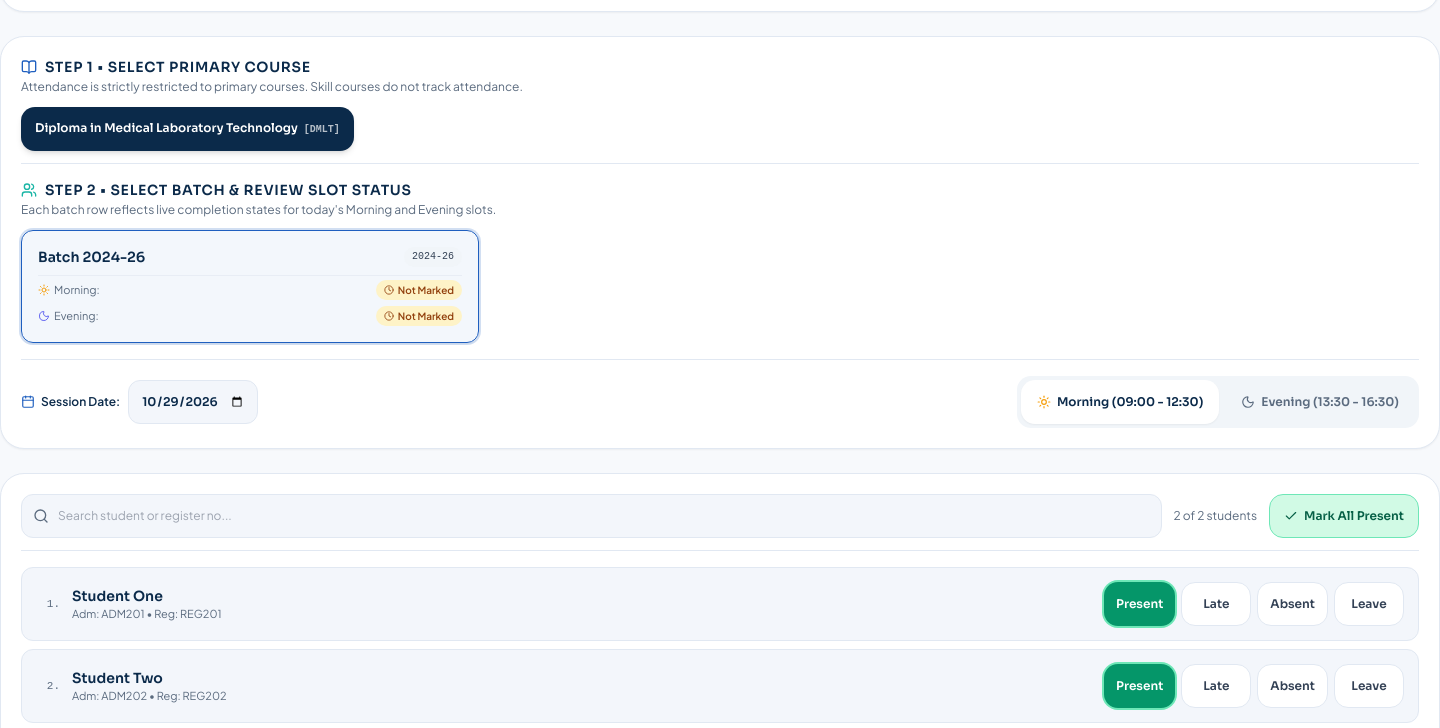
Test: Phase 8D - Change Request Automated Test Suite › 1. Concurrency Race-Safety on Attendance Submission › Teacher A succeeds; Teacher B gets ALREADY_MARKED with Teacher A details, keeping B entries visible on screen
Expected: the text "Student One" is shown, [72, 587, 163, 605]
Expected: the text "Student Two" is shown, [72, 669, 163, 687]
// Teacher B changes Student One to Absent
Click the button "Absent" in the row of "• Reg: REG201". click: (1293, 604)
box: [1257, 582, 1328, 626]
(page scrolled)
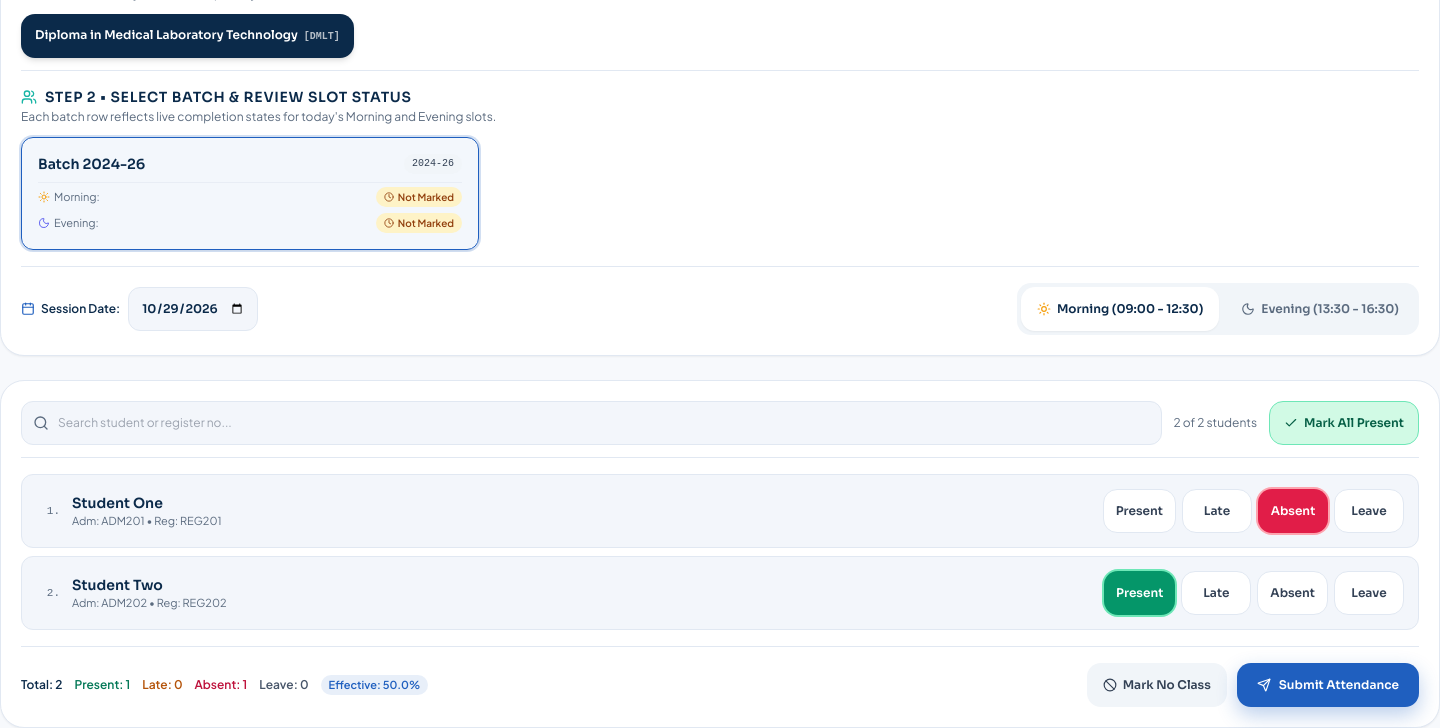
Expected: the text "Absent:" is shown, [194, 677, 240, 692]
// Teacher B clicks Submit Attendance
Click the button "Submit Attendance". click: (1328, 685)
box: [1237, 663, 1419, 707]
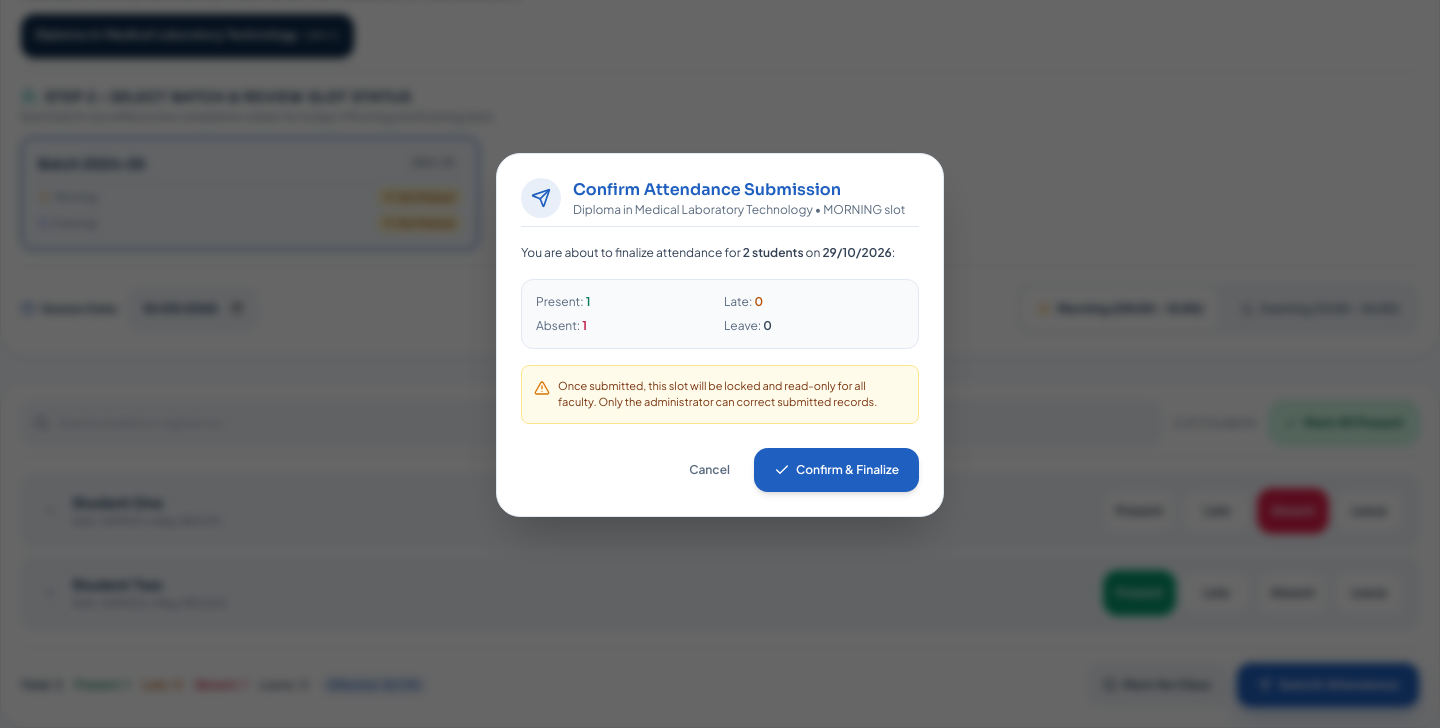
Now the heading "Confirm Attendance Submission" is shown, box [573, 179, 841, 200]
Click the button "Confirm & Finalize". click: (836, 470)
box: [754, 448, 919, 492]
(page scrolled)
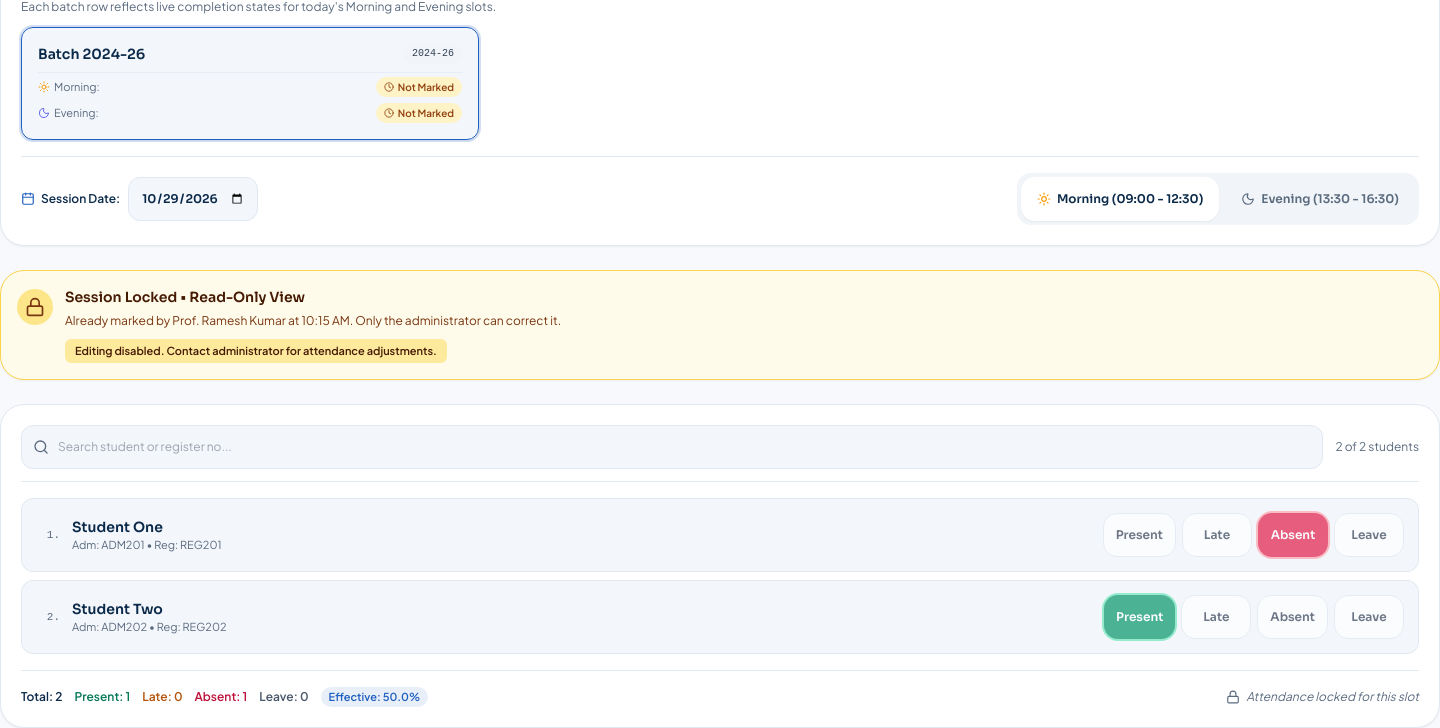
Now the text "Only the administrator can correct it" is shown, box [65, 313, 561, 328]
Now the button "Present" in the row of "• Reg: REG201" is disabled, box [1103, 513, 1176, 557]
Now the button "Late" in the row of "• Reg: REG201" is disabled, box [1182, 513, 1252, 557]
